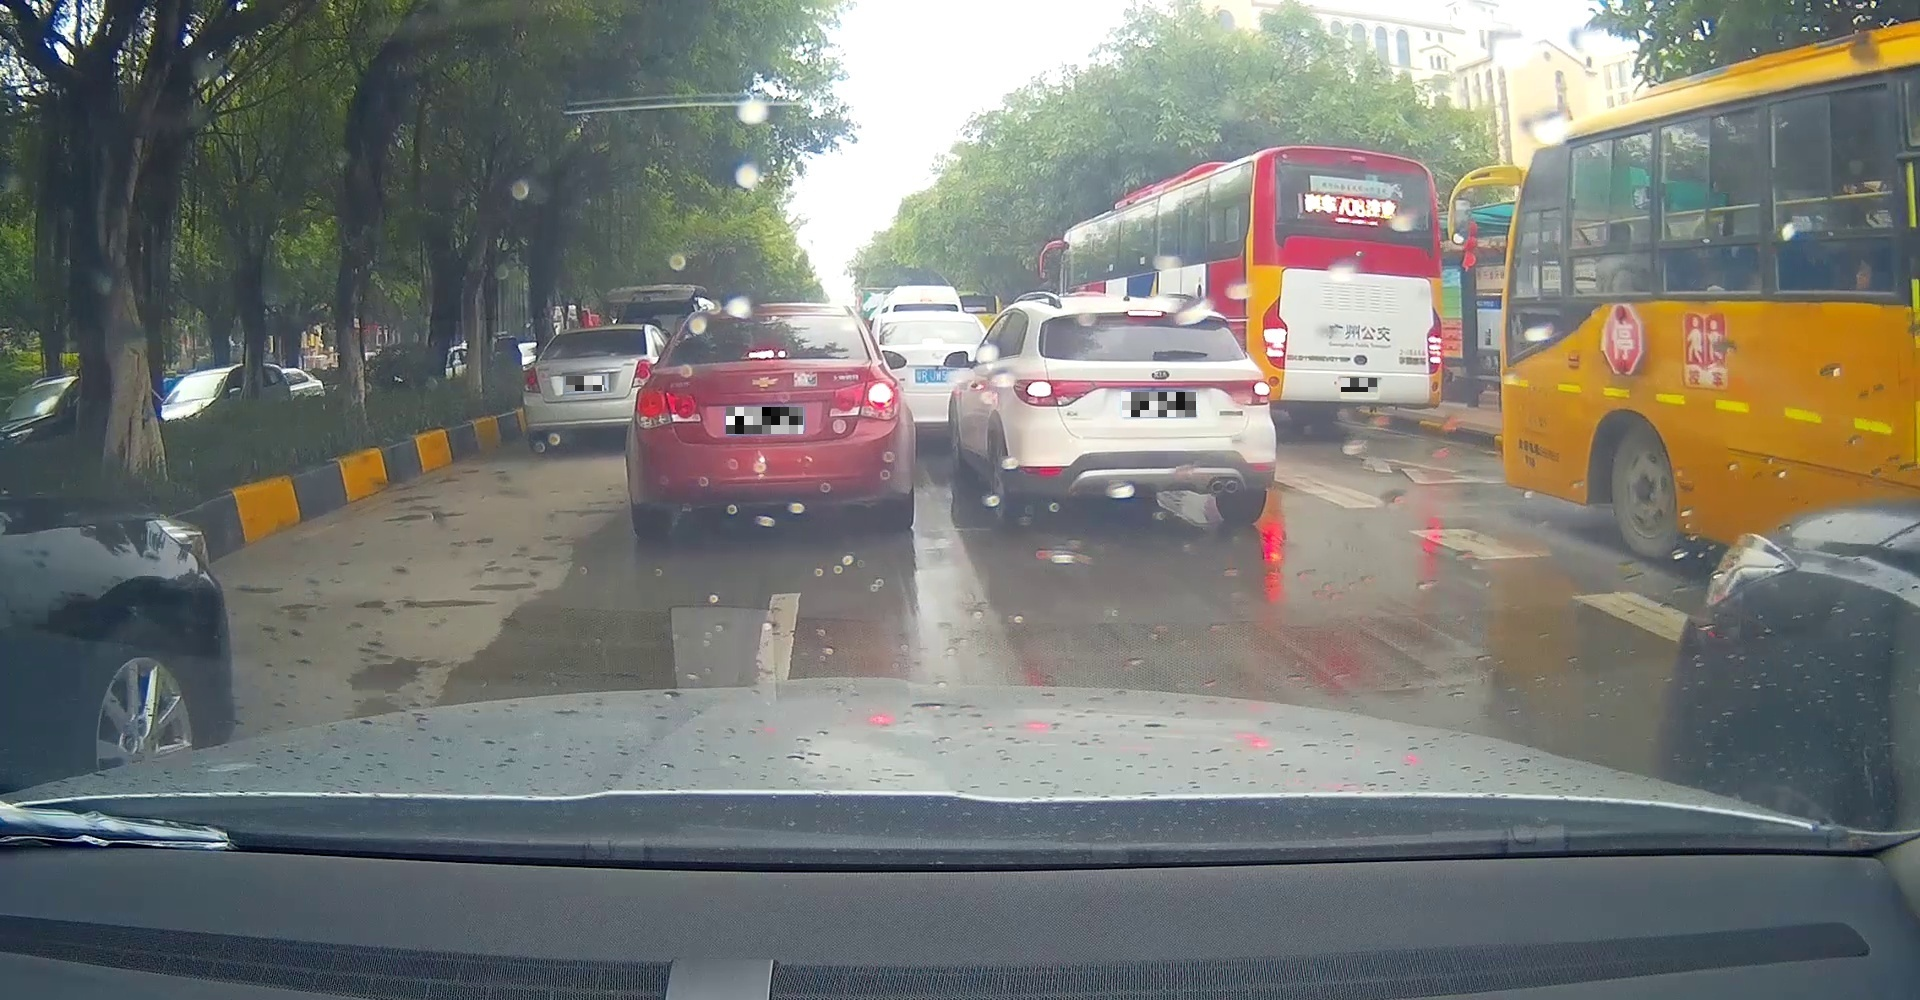L_light: (634, 387, 701, 426), (1013, 378, 1095, 407)
R_light: (832, 378, 902, 418), (1213, 379, 1271, 405)
T_light: (743, 349, 789, 357), (1128, 310, 1163, 317)
day-brake: (625, 303, 914, 536), (1010, 302, 1276, 524)
plate_1: (566, 376, 604, 391)
plate_2: (726, 407, 803, 434)
plate_3: (1123, 392, 1196, 418)
plate_4: (1341, 378, 1377, 392)
